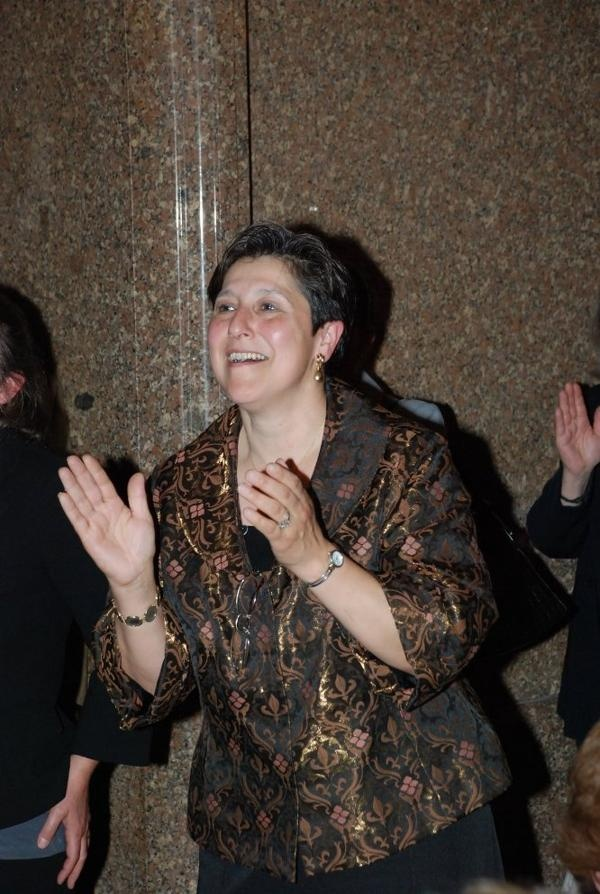person without safety: (111, 178, 492, 784)
